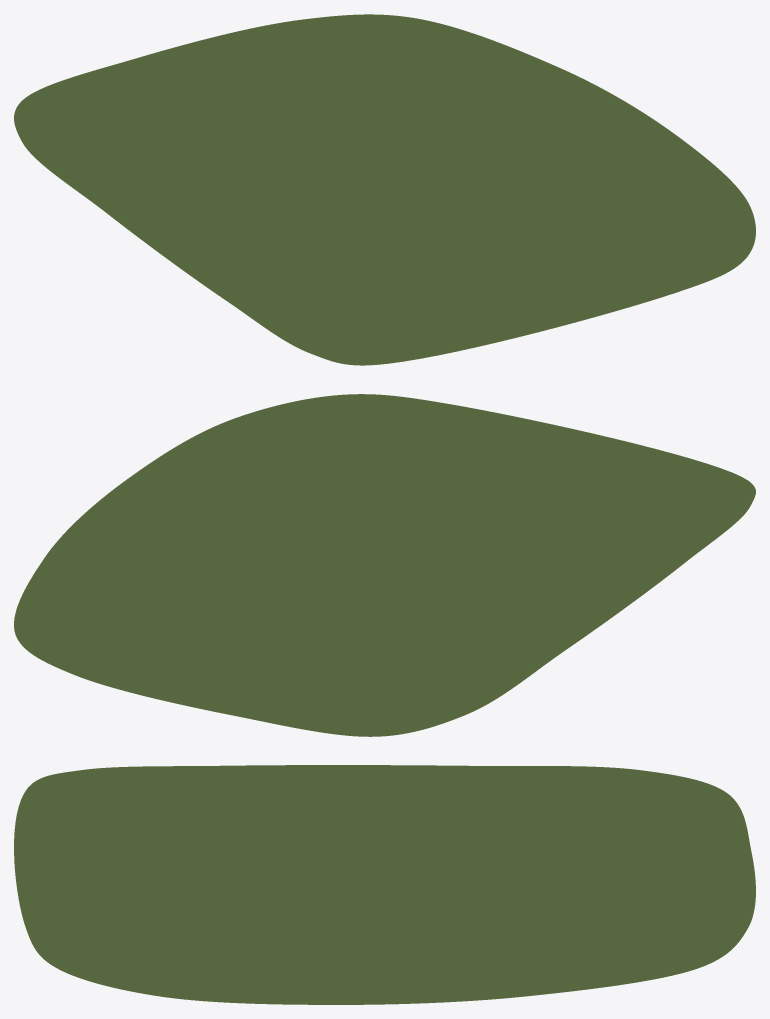
The model's file is SM_DK_03_Infield_lawns_and_pit_lane_grassdark.fbx.
3 renders of one model, top to bottom at view 1: azimuth 30°, elevation 25°; view 2: azimuth 150°, elevation 25°; view 3: azimuth 270°, elevation 25°, orthographic. The views are drawn at different scales.
Parts seen in each view (by area): view 1: 03 Infield lawns and pit lane | grassdark; view 2: 03 Infield lawns and pit lane | grassdark; view 3: 03 Infield lawns and pit lane | grassdark.
Boxes of the visible parts, x1=… form: 03 Infield lawns and pit lane | grassdark: x1=14, y1=14, x2=755, y2=365; 03 Infield lawns and pit lane | grassdark: x1=14, y1=394, x2=755, y2=736; 03 Infield lawns and pit lane | grassdark: x1=14, y1=765, x2=755, y2=1004.
Size of the model in its own units: 16350 by 21367 by 0.
